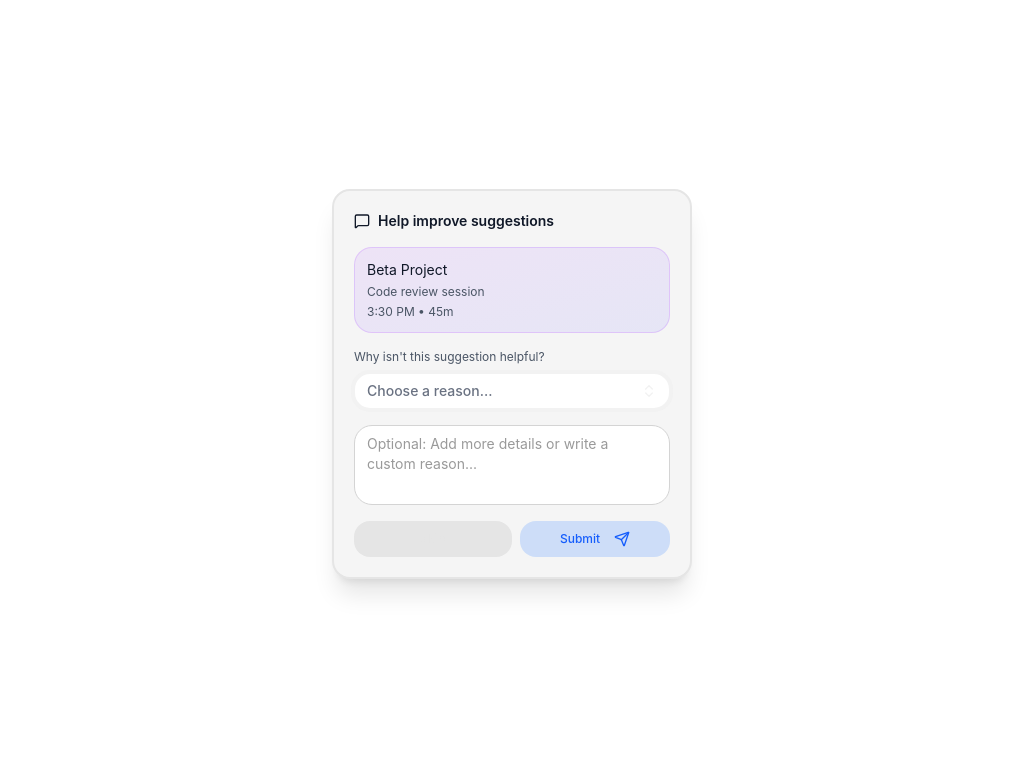
Test case: DismissFeedbackModal › Reason Selection via Combobox › should auto-fill textarea when non-other reason is selected
Click the dropdown. click: (430, 390)
box: [354,373,670,409]
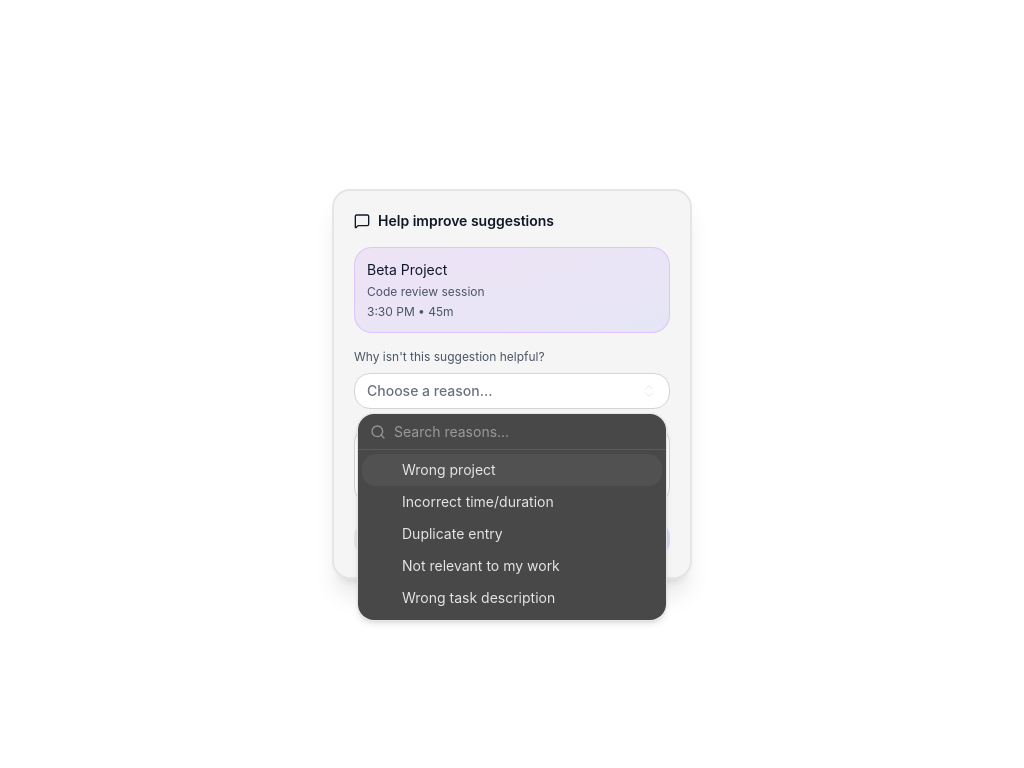
Click the option "Not relevant to my work". click: (481, 566)
box: [402,557,560,574]
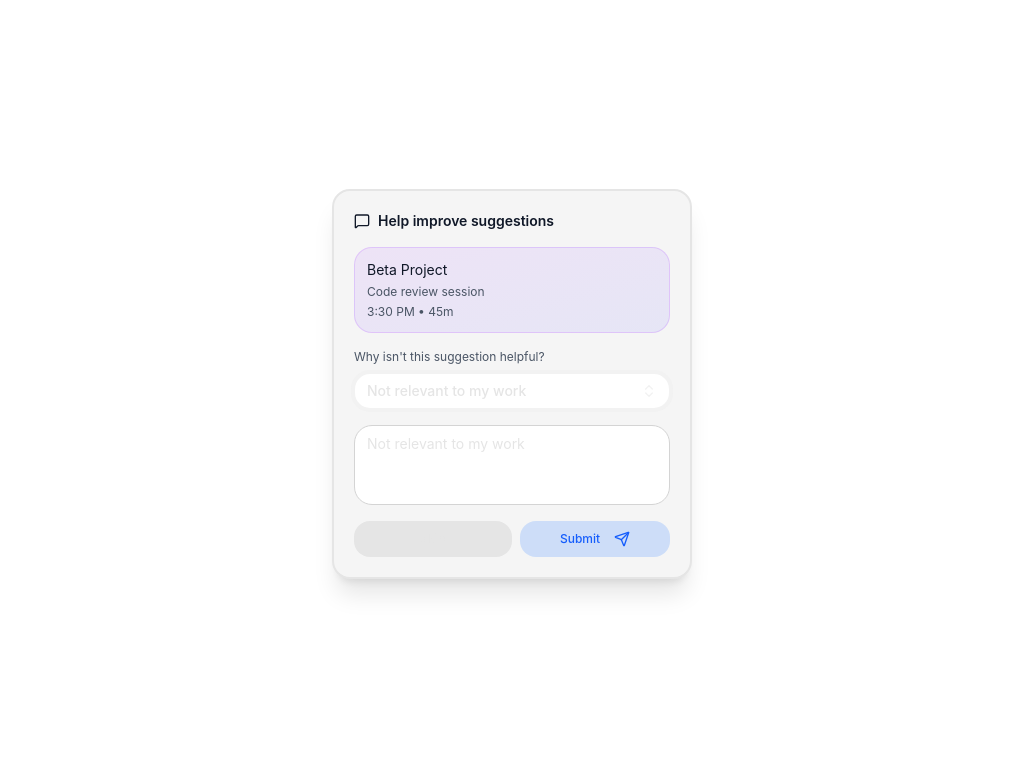
Expected: the text box with placeholder "Optional: Add more details or write a custom reason..." holds "Not relevant to my work", [354,425,670,505]
